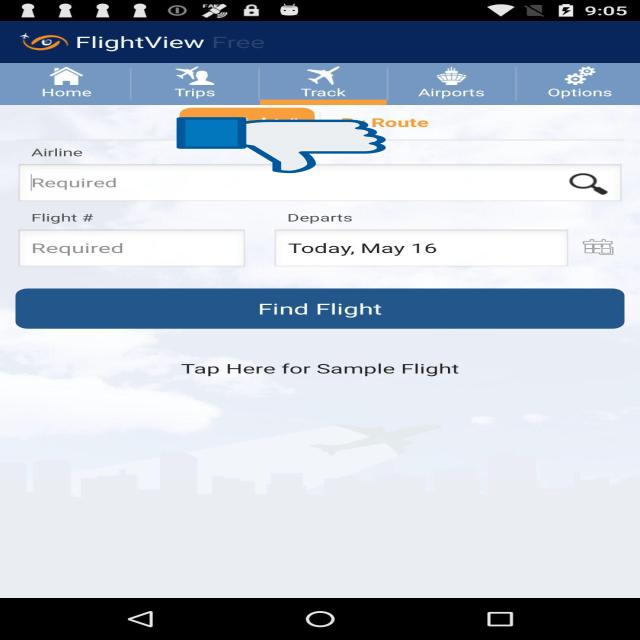obstruction: (177, 116, 386, 174)
